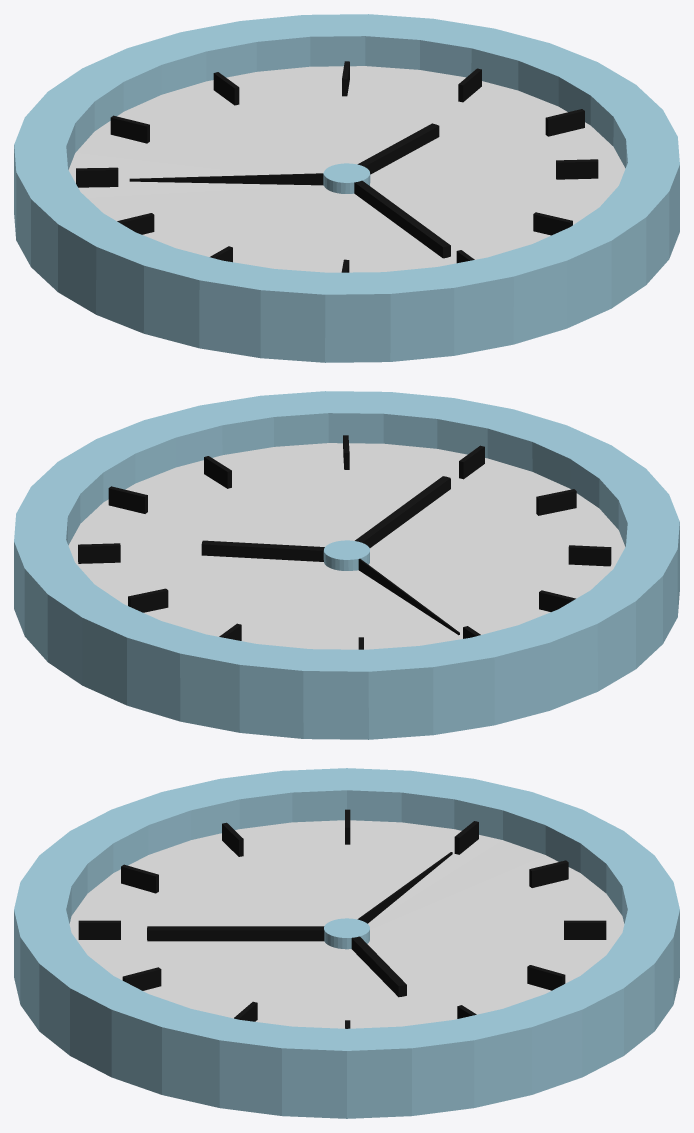
The model's file is saat.fbx.
The picture shows the model from 3 angles, top to bottom: view 1: azimuth 30°, elevation 25°; view 2: azimuth 150°, elevation 25°; view 3: azimuth 270°, elevation 25°; orthographic projection.
Parts seen in each view (by area): view 1: Cylinder; view 2: Cylinder; view 3: Cylinder.
Part boxes in pixels (x1,y1,x2,y2): Cylinder: (14, 14, 679, 362); Cylinder: (14, 391, 679, 739); Cylinder: (14, 768, 679, 1118).
Bounding box in the file's own units: 70.26 × 8.07 × 70.24.
